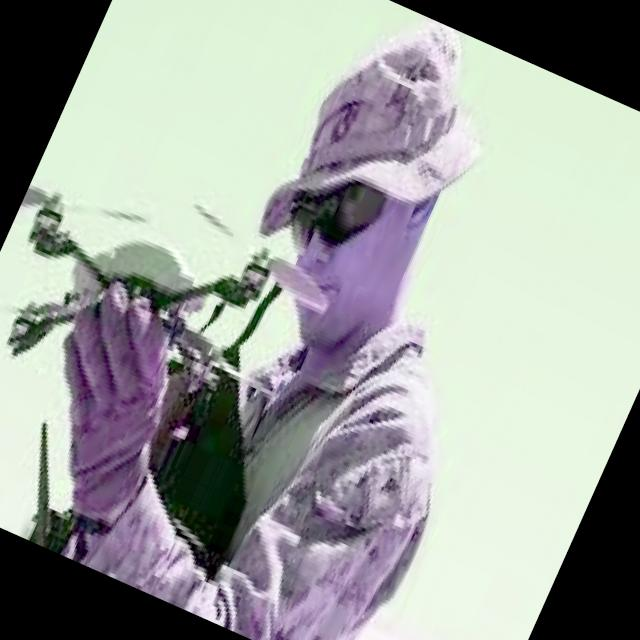drone: (0, 135, 347, 479)
